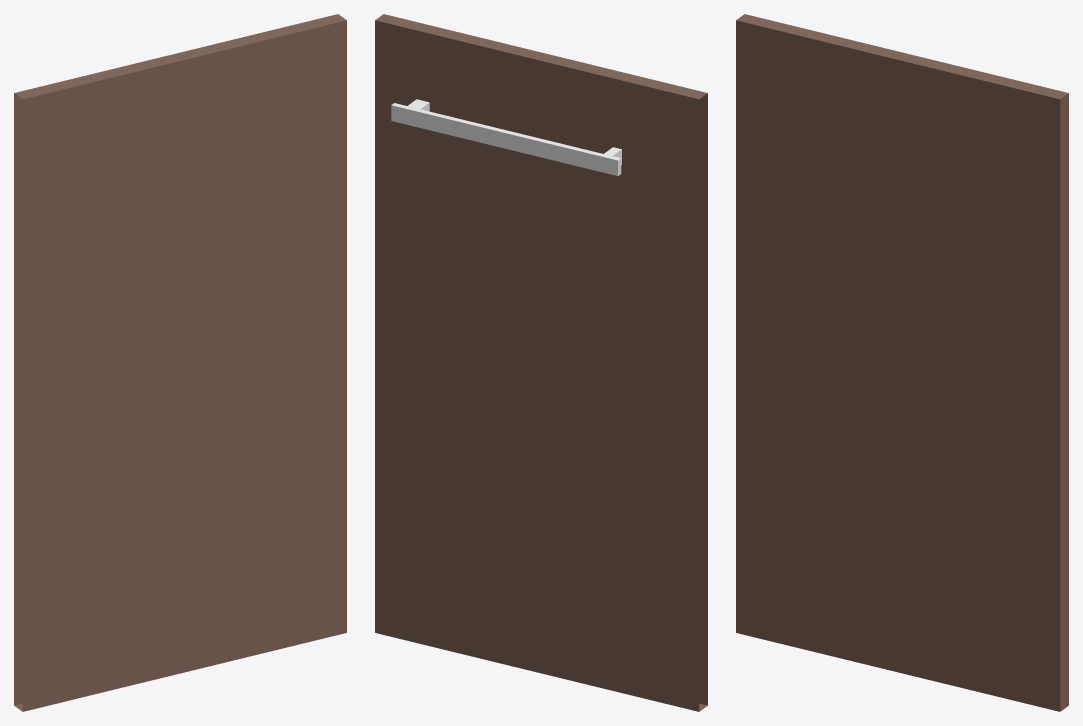
Rendered from cabinet_wood_left_door.glb.
3 renders of one model, left to right at view 1: azimuth 30°, elevation 25°; view 2: azimuth 150°, elevation 25°; view 3: azimuth 330°, elevation 25°, orthographic.
Visible parts, largest first — view 1: ABA 2; view 2: ABA 2; view 3: ABA 2.
Boxes of the visible parts, <box> form: ABA 2: <box>14,14,346,711</box>; ABA 2: <box>375,14,707,711</box>; ABA 2: <box>736,14,1068,711</box>.
Bounding box in the file's own units: 1.87 × 3.37 × 0.2111.
